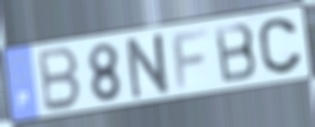8: (84, 40, 123, 104)
B: (37, 44, 83, 115), (212, 20, 260, 86)
C: (256, 16, 305, 77)
F: (170, 26, 211, 92)
N: (124, 29, 174, 102)
